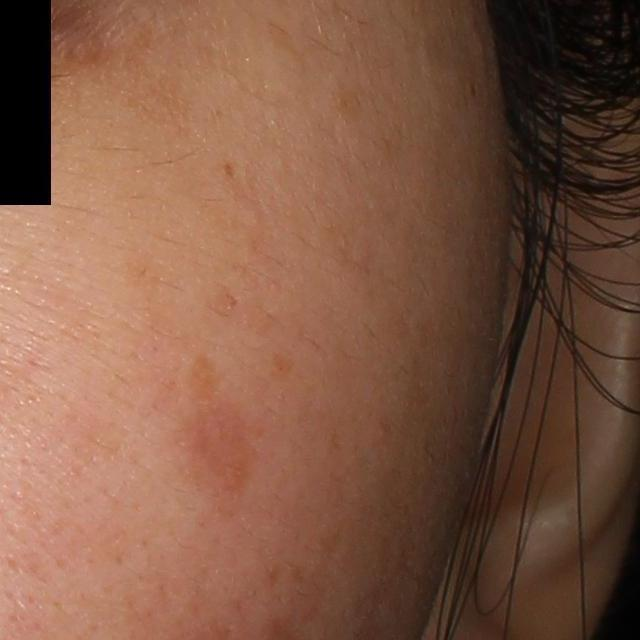melasma: (178, 355, 254, 507), (130, 66, 195, 128), (44, 38, 116, 90), (124, 241, 165, 306)
